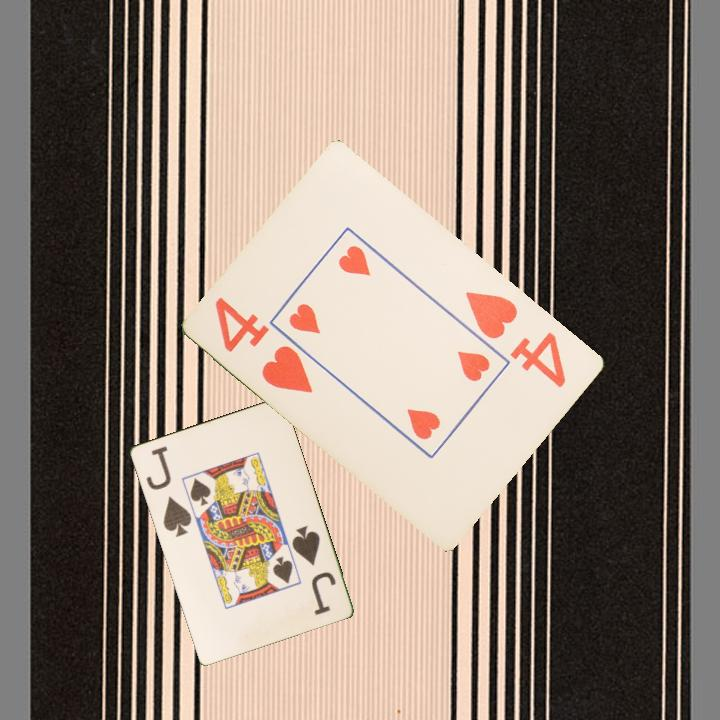4h: (462, 287, 570, 391), (211, 293, 317, 397)
Js: (142, 442, 194, 539), (288, 522, 339, 618)
